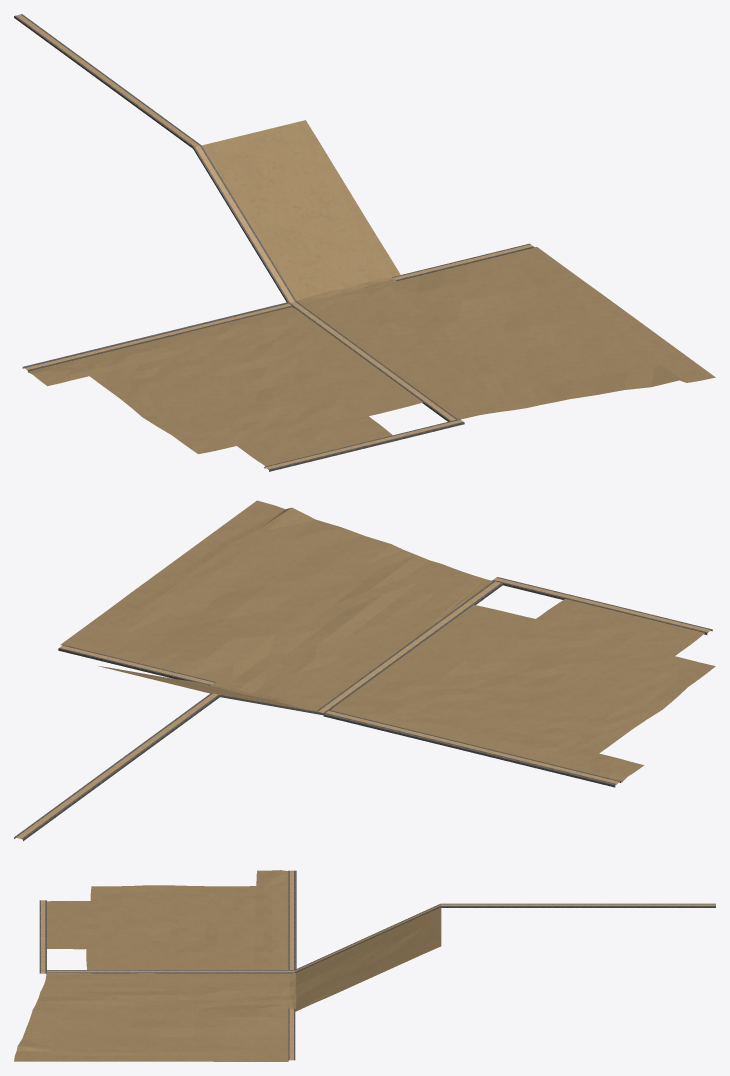
File: SM_ENV_KNVLLG_ground_05.fbx
The picture shows the model from 3 angles, top to bottom: view 1: azimuth 30°, elevation 25°; view 2: azimuth 150°, elevation 25°; view 3: azimuth 270°, elevation 25°; orthographic projection. The views are drawn at different scales.
Parts seen in each view (by area): view 1: SM_ENV_KNVLLG_ground_05.mo; view 2: SM_ENV_KNVLLG_ground_05.mo; view 3: SM_ENV_KNVLLG_ground_05.mo.
Boxes of the visible parts, x1,y1,x2,y2 form: SM_ENV_KNVLLG_ground_05.mo: (14,14,715,471); SM_ENV_KNVLLG_ground_05.mo: (14,500,715,841); SM_ENV_KNVLLG_ground_05.mo: (14,870,715,1061).
Bounding box in the file's own units: 20286 × 3352 × 31493.
